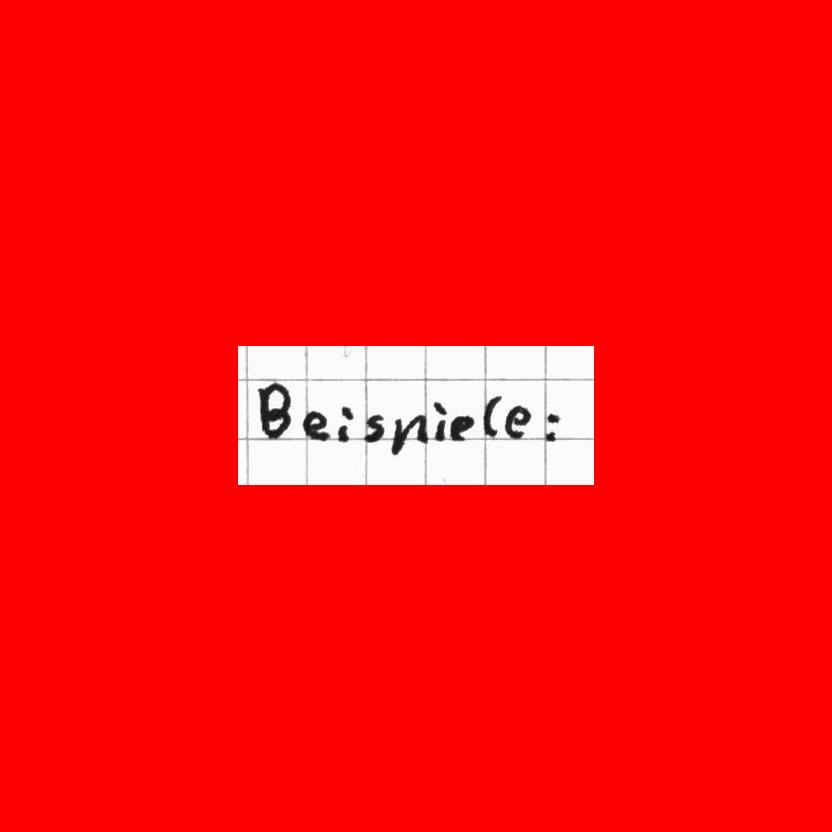Char: (254, 377, 294, 442), (389, 410, 429, 458), (301, 408, 333, 443), (502, 402, 532, 439), (482, 391, 502, 439), (336, 403, 357, 445), (447, 412, 475, 442), (431, 398, 448, 445), (362, 411, 385, 445), (542, 409, 560, 445)
